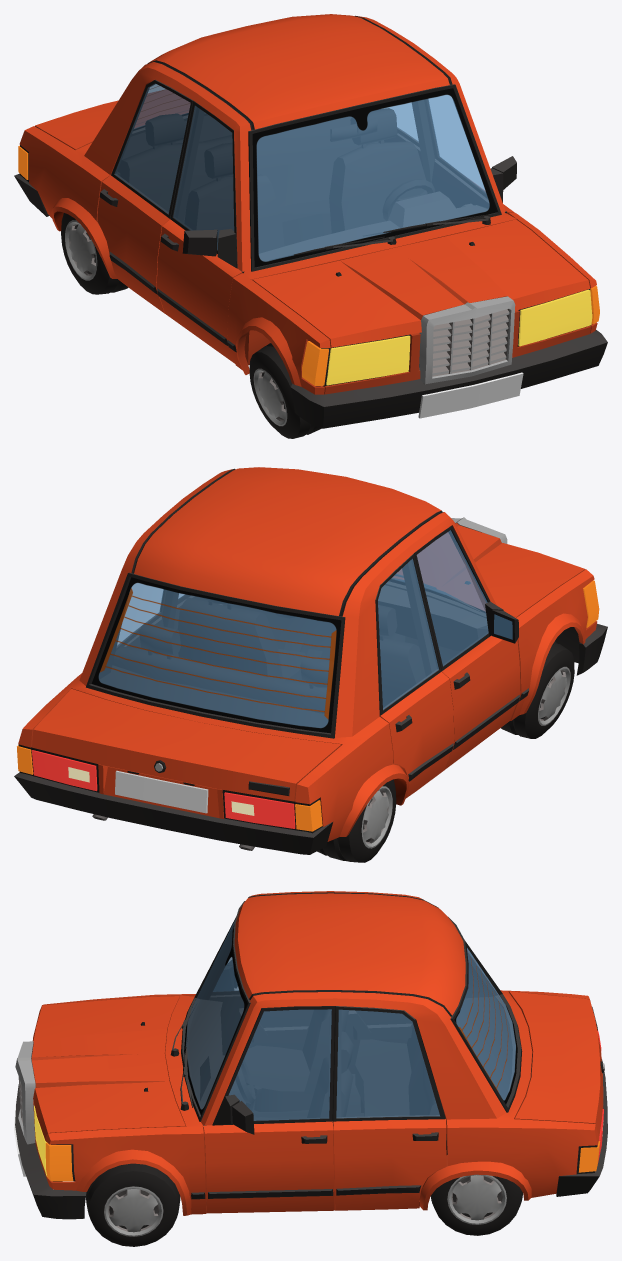
Rendered from car_red.glb.
The picture shows the model from 3 angles, top to bottom: view 1: azimuth 30°, elevation 25°; view 2: azimuth 150°, elevation 25°; view 3: azimuth 270°, elevation 25°; orthographic projection. The views are drawn at different scales.
Parts seen in each view (by area): view 1: Body, Bonnet, Doors_FR, Doors_RR, Bumper_F, FrontGrill_9, Fender_FR, Doors_FL, Headlights_FR, Bootlid, Headlights_FL, InteriorAssymetry_1 (+8 smaller); view 2: Body, Bootlid, Doors_FR, Doors_RR, Bonnet, Bumper_R, Fender_FR, Lights_RR, Lights_RL, Wheel_FR, Doors_RL, Wheel_RR (+3 smaller); view 3: Body, Doors_FL, Doors_RL, Bonnet, Bootlid, Fender_FL, Wheel_FL, Doors_FR, Bumper_F, Rim_RL, Rim_FL, Doors_RR (+7 smaller).
Part boxes in pixels (x1=…): Body: x1=19, y1=14, x2=591, y2=394; Bonnet: x1=252, y1=219, x2=590, y2=347; Doors_FR: x1=156, y1=101, x2=244, y2=363; Doors_RR: x1=97, y1=79, x2=193, y2=313; Bumper_F: x1=291, y1=330, x2=607, y2=428; FrontGrill_9: x1=419, y1=296, x2=515, y2=384; Fender_FR: x1=227, y1=273, x2=330, y2=394; Doors_FL: x1=424, y1=95, x2=516, y2=213; Headlights_FR: x1=325, y1=334, x2=410, y2=385; Bootlid: x1=35, y1=90, x2=189, y2=149; Headlights_FL: x1=517, y1=289, x2=592, y2=346; InteriorAssymetry_1: x1=382, y1=179, x2=461, y2=227; Body: x1=18, y1=467, x2=516, y2=850; Bootlid: x1=32, y1=689, x2=341, y2=801; Doors_FR: x1=414, y1=525, x2=520, y2=769; Doors_RR: x1=375, y1=553, x2=454, y2=798; Bonnet: x1=397, y1=523, x2=585, y2=617; Bumper_R: x1=14, y1=772, x2=332, y2=854; Fender_FR: x1=510, y1=569, x2=597, y2=720; Lights_RR: x1=222, y1=790, x2=322, y2=833; Lights_RL: x1=17, y1=744, x2=99, y2=792; Wheel_FR: x1=501, y1=641, x2=574, y2=738; Doors_RL: x1=116, y1=583, x2=166, y2=650; Wheel_RR: x1=317, y1=779, x2=396, y2=862; Body: x1=33, y1=891, x2=603, y2=1210; Doors_FL: x1=203, y1=1006, x2=335, y2=1213; Doors_RL: x1=332, y1=1006, x2=446, y2=1210; Bonnet: x1=31, y1=996, x2=185, y2=1139; Bootlid: x1=509, y1=991, x2=604, y2=1137; Fender_FL: x1=45, y1=1126, x2=206, y2=1215; Wheel_FL: x1=86, y1=1163, x2=180, y2=1246; Doors_FR: x1=209, y1=957, x2=313, y2=1058; Bumper_F: x1=14, y1=1084, x2=86, y2=1219; Rim_RL: x1=447, y1=1174, x2=506, y2=1224; Rim_FL: x1=104, y1=1186, x2=163, y2=1236; Doors_RR: x1=345, y1=1010, x2=413, y2=1073.
Size of the model in its own units: 1.31 by 1 by 2.13.
4 materials, 4 textured.
